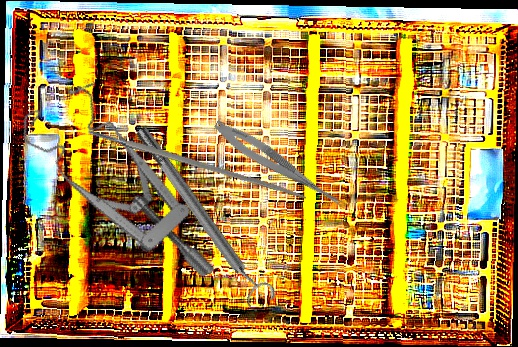Fixation Ring: (127, 118, 280, 315)
Micro Scissor: (209, 115, 353, 215)
Scalpel Handle: (85, 125, 308, 202)
Speculum: (11, 63, 219, 319)
